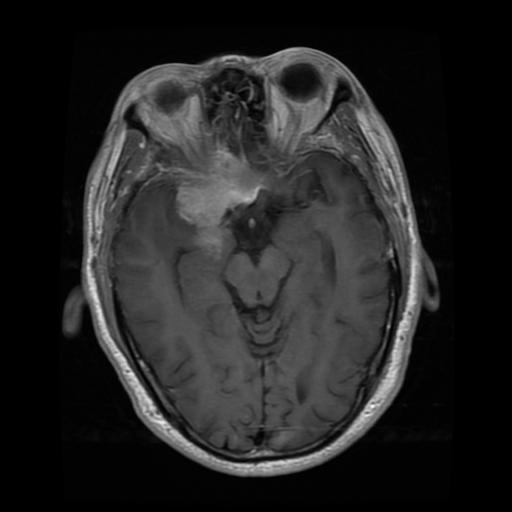Menigiomia_tumour: (175, 146, 263, 249)
